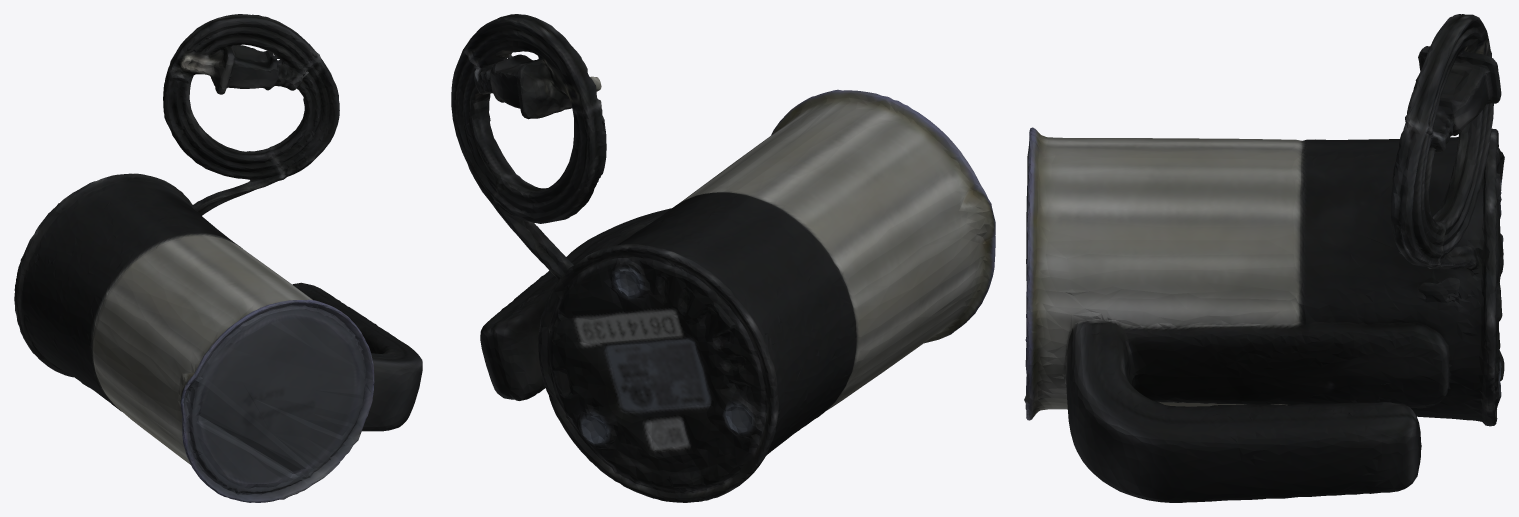
File: Aroma_Stainless_Steel_Milk_Frother_2_Cup.glb
The picture shows the model from 3 angles, left to right: view 1: azimuth 30°, elevation 25°; view 2: azimuth 150°, elevation 25°; view 3: azimuth 270°, elevation 25°; orthographic projection. The views are drawn at different scales.
Visible parts, largest first — view 1: v0; view 2: v0; view 3: v0.
Boxes of the visible parts, <box> form: v0: <box>14,14,422,502</box>; v0: <box>451,14,995,502</box>; v0: <box>1024,14,1504,502</box>.
Size of the model in its own units: 0.1423 by 0.1577 by 0.1483.
1 material, 1 textured.
